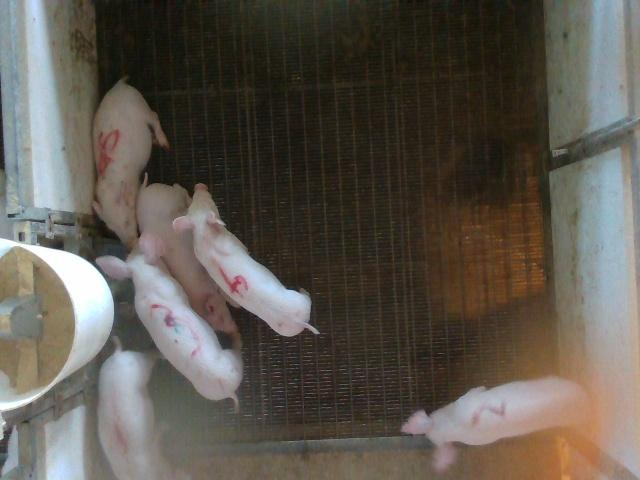pig-1: (98, 340, 172, 479)
pig-2: (401, 376, 589, 471)
pig-3: (99, 231, 244, 401)
pig-4: (172, 184, 319, 336)
pig-5: (92, 78, 169, 248)
